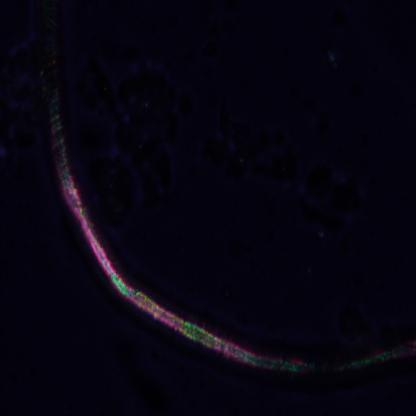Microfibre: (36, 2, 416, 380)
